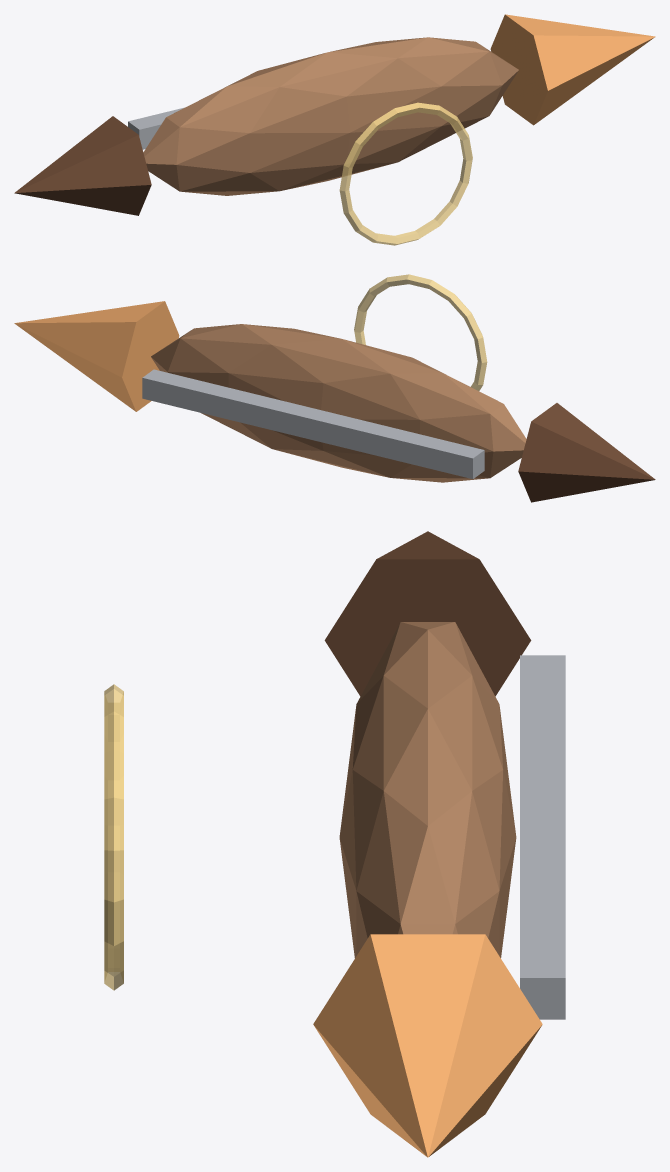
Rendered from 05_skyship_hull.glb.
The picture shows the model from 3 angles, top to bottom: view 1: azimuth 30°, elevation 25°; view 2: azimuth 150°, elevation 25°; view 3: azimuth 270°, elevation 25°; orthographic projection. The views are drawn at different scales.
Visible parts, largest first — view 1: hull_low_poly, bow_upgrade, stern_fin, size_class_ring, keel_plate; view 2: hull_low_poly, keel_plate, bow_upgrade, stern_fin, size_class_ring; view 3: hull_low_poly, bow_upgrade, stern_fin, keel_plate, size_class_ring.
Part boxes in pixels (left/top/right/bottom): hull_low_poly: left=143, top=37, right=518, bottom=195; bow_upgrade: left=490, top=14, right=655, bottom=125; stern_fin: left=14, top=116, right=151, bottom=215; size_class_ring: left=339, top=102, right=472, bottom=245; keel_plate: left=128, top=107, right=184, bottom=149; hull_low_poly: left=151, top=324, right=526, bottom=482; keel_plate: left=142, top=369, right=484, bottom=478; bow_upgrade: left=14, top=301, right=179, bottom=411; stern_fin: left=518, top=403, right=655, bottom=502; size_class_ring: left=354, top=274, right=487, bottom=390; hull_low_poly: left=339, top=622, right=516, bottom=957; bow_upgrade: left=313, top=934, right=542, bottom=1157; stern_fin: left=324, top=531, right=531, bottom=696; keel_plate: left=520, top=655, right=565, bottom=1019; size_class_ring: left=104, top=684, right=123, bottom=990.
Bounding box in the file's own units: 3.87 × 0.7918 × 1.21.
